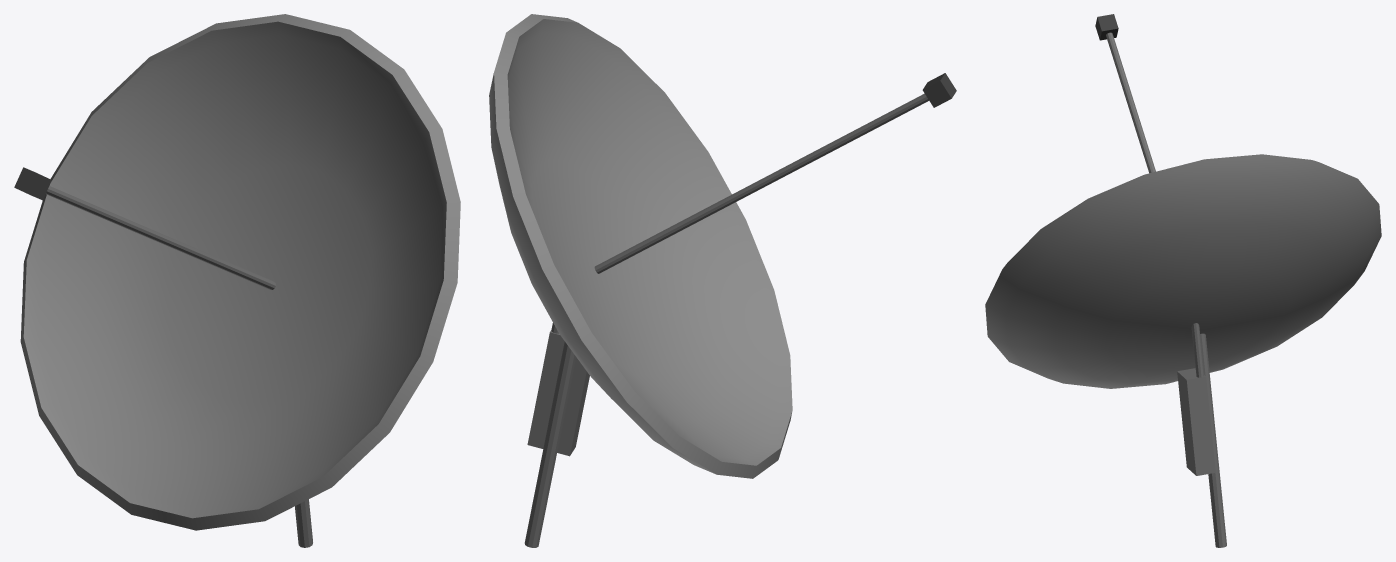
File: Antenna_2.fbx
3 views of the same model, side by side, from view 1: azimuth 30°, elevation 25°; view 2: azimuth 150°, elevation 25°; view 3: azimuth 270°, elevation 25° (orthographic). The views are drawn at different scales.
Visible parts, largest first — view 1: Antenna_2; view 2: Antenna_2; view 3: Antenna_2.
Boxes of the visible parts, left/top/right/bottom form: Antenna_2: left=14, top=14, right=460, bottom=547; Antenna_2: left=489, top=14, right=956, bottom=547; Antenna_2: left=985, top=14, right=1381, bottom=547.
Size of the model in its own units: 0.6174 by 0.7306 by 0.6567.
1 material, 1 textured.
